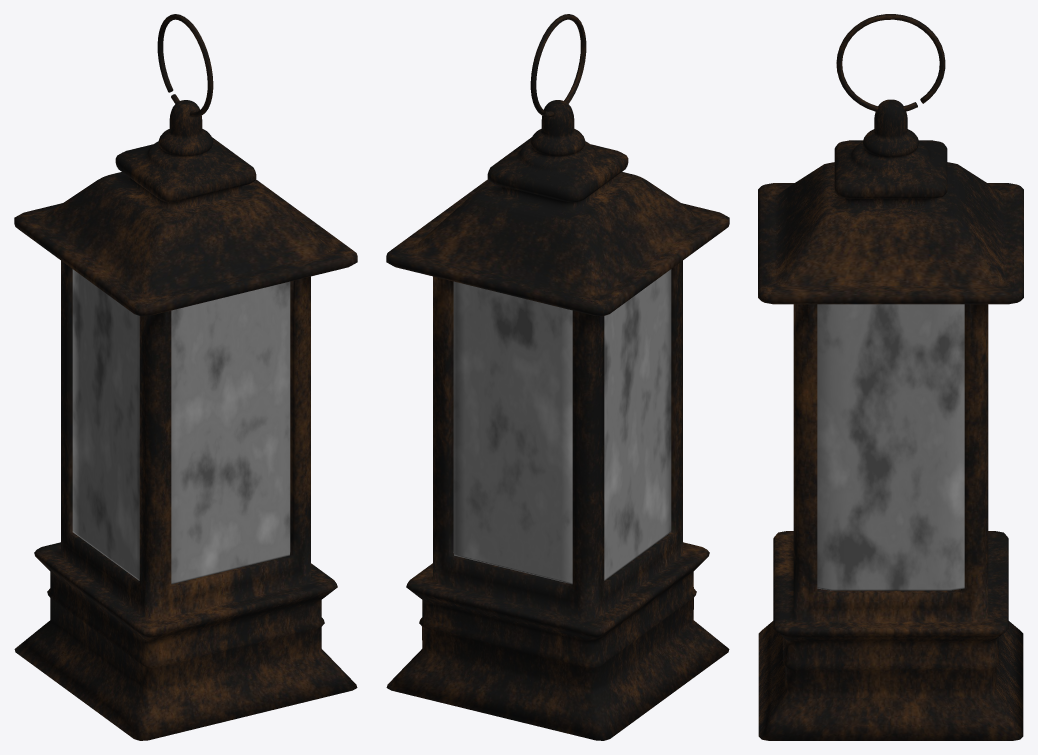
File: boxLantern.fbx
The picture shows the model from 3 angles, left to right: view 1: azimuth 30°, elevation 25°; view 2: azimuth 150°, elevation 25°; view 3: azimuth 270°, elevation 25°; orthographic projection. The views are drawn at different scales.
Parts seen in each view (by area): view 1: body a square lantern, glass a squar lantern, hold a square lantern; view 2: body a square lantern, glass a squar lantern, hold a square lantern; view 3: body a square lantern, glass a squar lantern, hold a square lantern.
Boxes of the visible parts, x1,y1,x2,y2 form: body a square lantern: (14,100,357,740); glass a squar lantern: (72,269,290,584); hold a square lantern: (157,14,213,117); body a square lantern: (386,100,729,740); glass a squar lantern: (453,269,671,584); hold a square lantern: (530,14,586,117); body a square lantern: (758,99,1023,740); glass a squar lantern: (817,304,964,590); hold a square lantern: (836,14,945,111).
Size of the model in its own units: 196 by 547 by 196.
